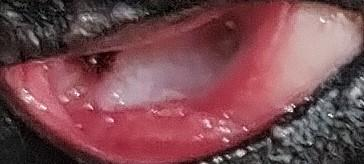eye_membrane: (3, 1, 361, 162)
